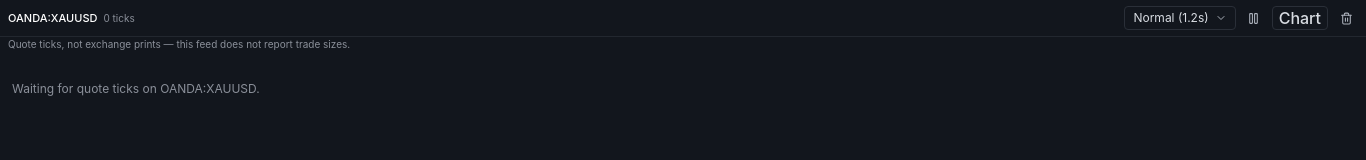
Scenario: TimeAndSales › allows toggling pause state
Click the button named "Pause live tape stream".
click(1254, 18)  # box [1242,6,1266,30]
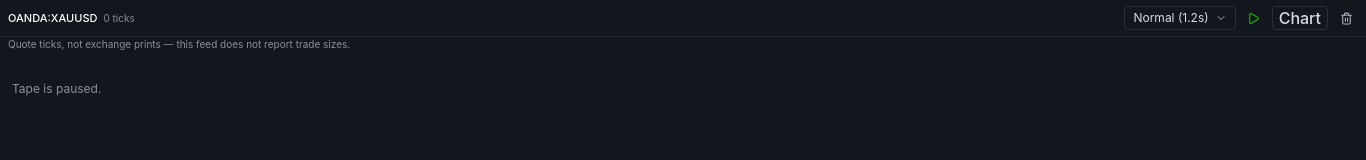
Now the button named "Resume live tape stream" is shown, box [1242,6,1266,30]
Now the text "Tape is paused." is shown, box [12,81,101,96]
